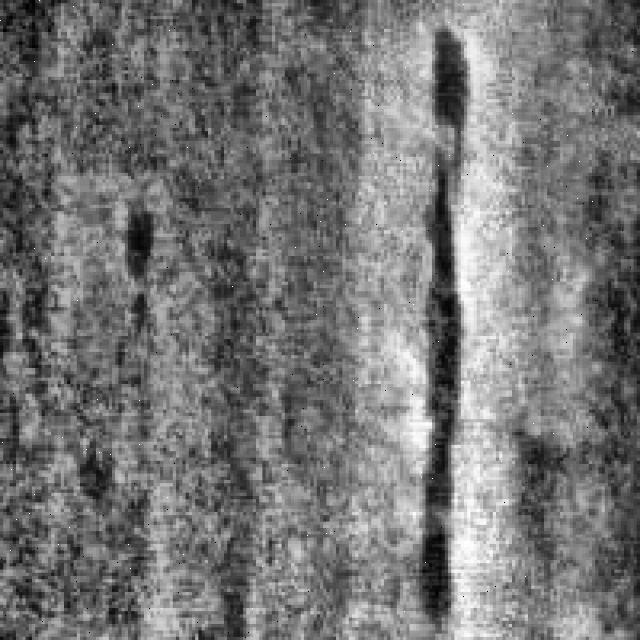Patches: (528, 237, 630, 624), (396, 138, 474, 630), (413, 22, 480, 205), (105, 198, 163, 358)
